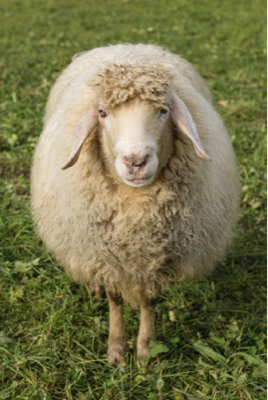koyun: (30, 44, 241, 369)
